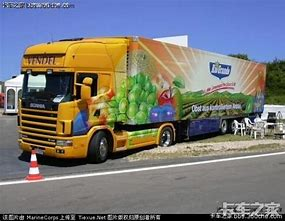bigtruck: (17, 34, 266, 167)
